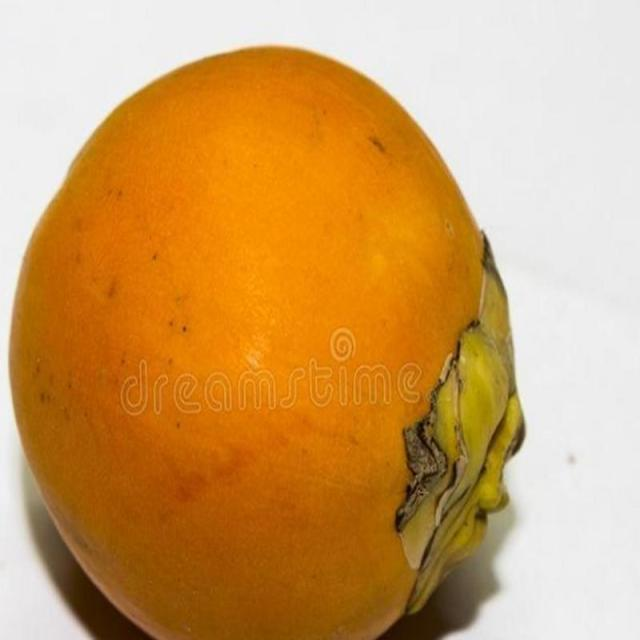good: (7, 45, 526, 639)
